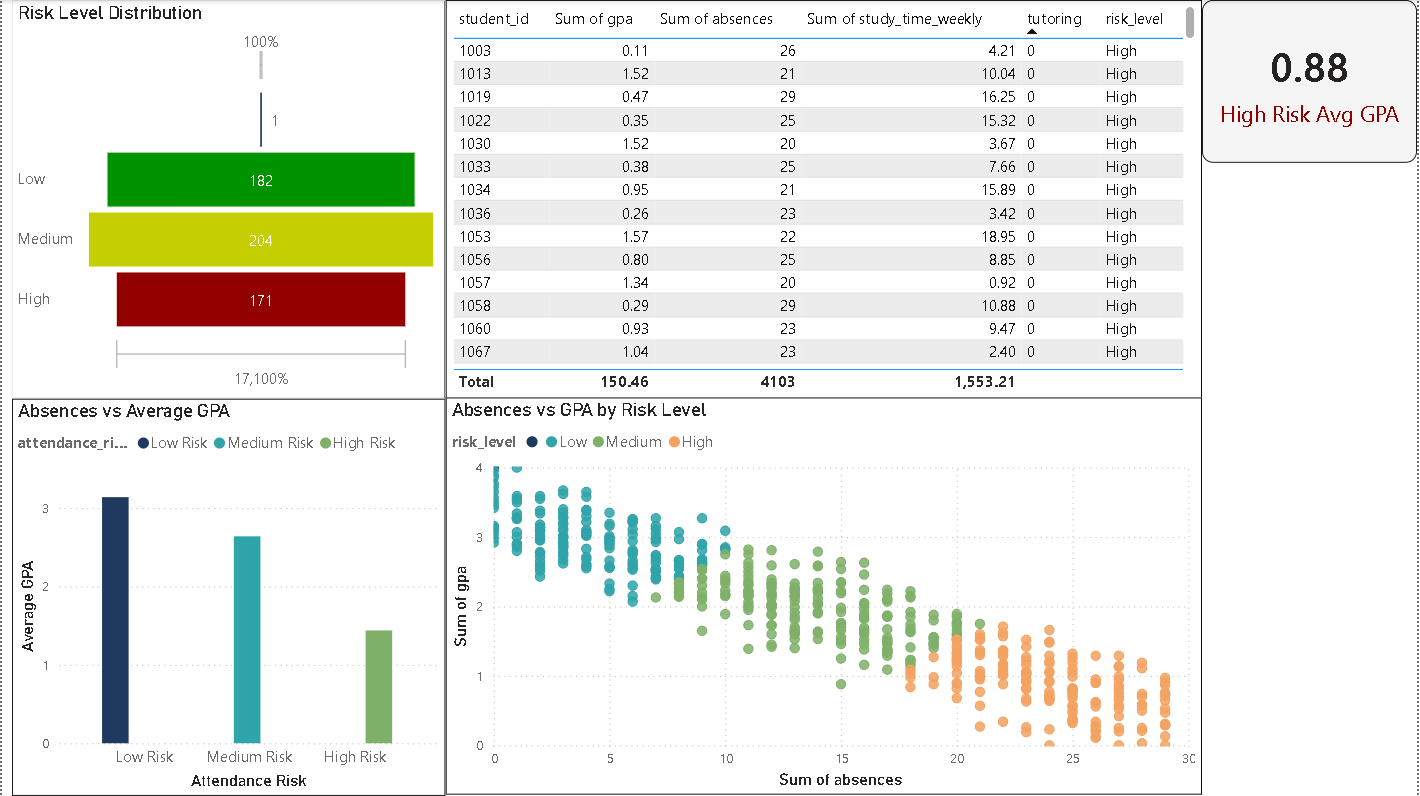

What the dashboard file says about the page in this screenshot:
{"tool":"powerbi","page":{"name":"Risk Analysis","canvas":[1280,720],"ordinal":2},"visuals":[{"type":"funnel","title":"Risk Level Distribution","fields":{"Category":["Students.risk_level"],"Y":["CountNonNull(Students.student_id)"]},"box":[10,0,353.3,373.3],"z":0},{"type":"clusteredColumnChart","title":" Absences vs Average GPA","fields":{"Category":["Students.attendance_risk"],"Series":["Students.attendance_risk"],"Y":["Students.Average GPA"]},"box":[10,360,353.3,360],"z":1000},{"type":"tableEx","fields":{"Values":["Students.student_id","Sum(Students.gpa)","Sum(Students.absences)","Sum(Students.study_time_weekly)","Students.tutoring","Students.risk_level"]},"box":[363.3,0,618.3,360],"z":2000},{"type":"scatterChart","fields":{"Category":["Students.student_id"],"X":["Sum(Students.absences)"],"Y":["Sum(Students.gpa)"],"Series":["Students.risk_level"]},"box":[363.3,360,618.3,360],"z":3000},{"type":"card","fields":{"Values":["Students.High Risk Avg GPA"]},"box":[981.7,0,213.3,166.7],"z":4000}]}

Visuals, with their boxes in screenshot pixels (x1, y1, x2, y2), scaled from the page's 1280x720 canvas onto the 1420x796 screenshot:
"Risk Level Distribution" funnel: 11:0:403:413
" Absences vs Average GPA" clusteredColumnChart: 11:398:403:795
tableEx - Students.student_id x Sum(Students.gpa): 403:0:1089:398
scatterChart - Students.student_id x Sum(Students.absences): 403:398:1089:795
card - Students.High Risk Avg GPA: 1089:0:1326:184
